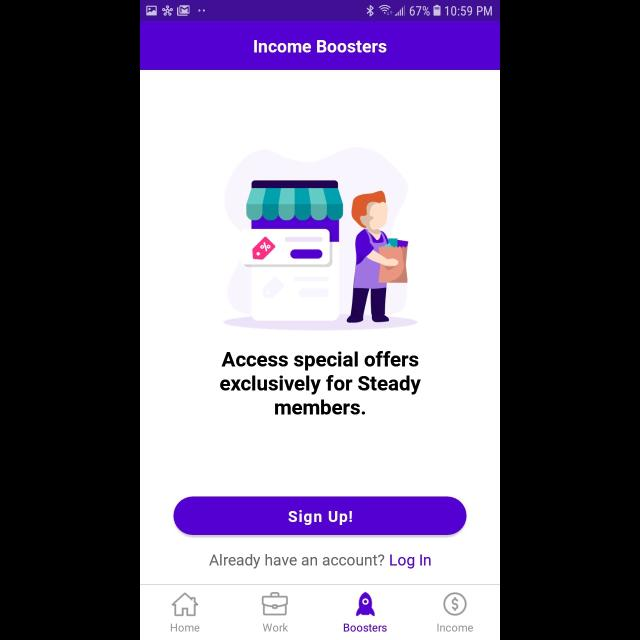icon: (172, 592, 198, 616), (262, 592, 288, 616), (443, 592, 467, 616)
image: (222, 147, 418, 331), (356, 592, 376, 616)
text: (220, 351, 422, 415), (209, 554, 431, 568), (254, 40, 386, 54), (343, 624, 387, 632), (438, 624, 474, 632), (263, 622, 289, 632), (170, 624, 200, 632)
textbutton: (174, 496, 466, 536)
uppertaskbar: (140, 1, 500, 22)
